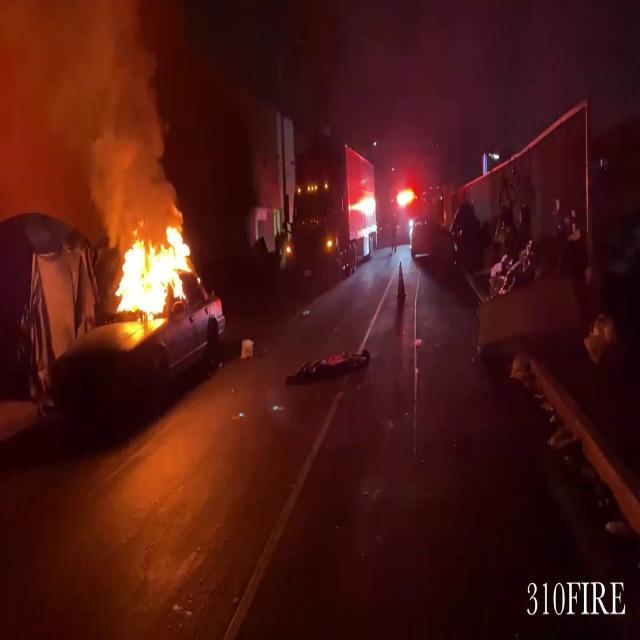Fire: (109, 216, 200, 328)
Smoke: (0, 0, 184, 226)
